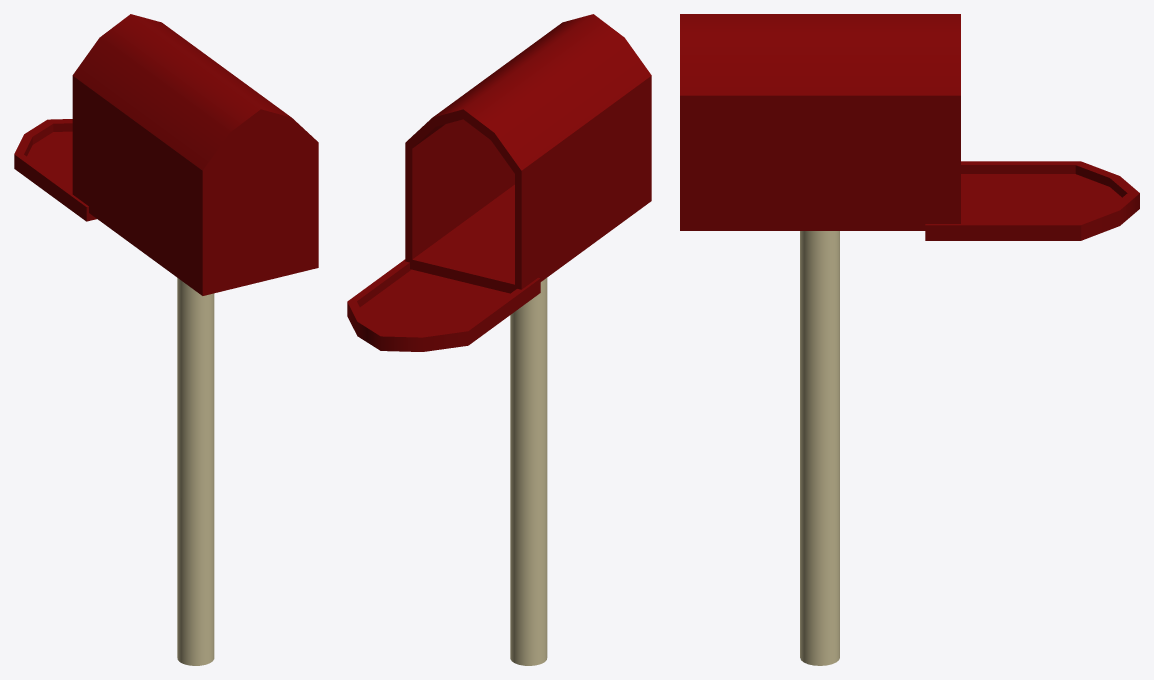
The model's file is post office box1.fbx.
3 renders of one model, left to right at view 1: azimuth 30°, elevation 25°; view 2: azimuth 150°, elevation 25°; view 3: azimuth 270°, elevation 25°, orthographic. The views are drawn at different scales.
Parts seen in each view (by area): view 1: pCylinder34; view 2: pCylinder34; view 3: pCylinder34.
Part boxes in pixels (x1=…): pCylinder34: x1=14, y1=14, x2=318, y2=665; pCylinder34: x1=347, y1=14, x2=651, y2=665; pCylinder34: x1=680, y1=14, x2=1139, y2=665.
Bounding box in the file's own units: 0.9667 × 4.55 × 2.94.
